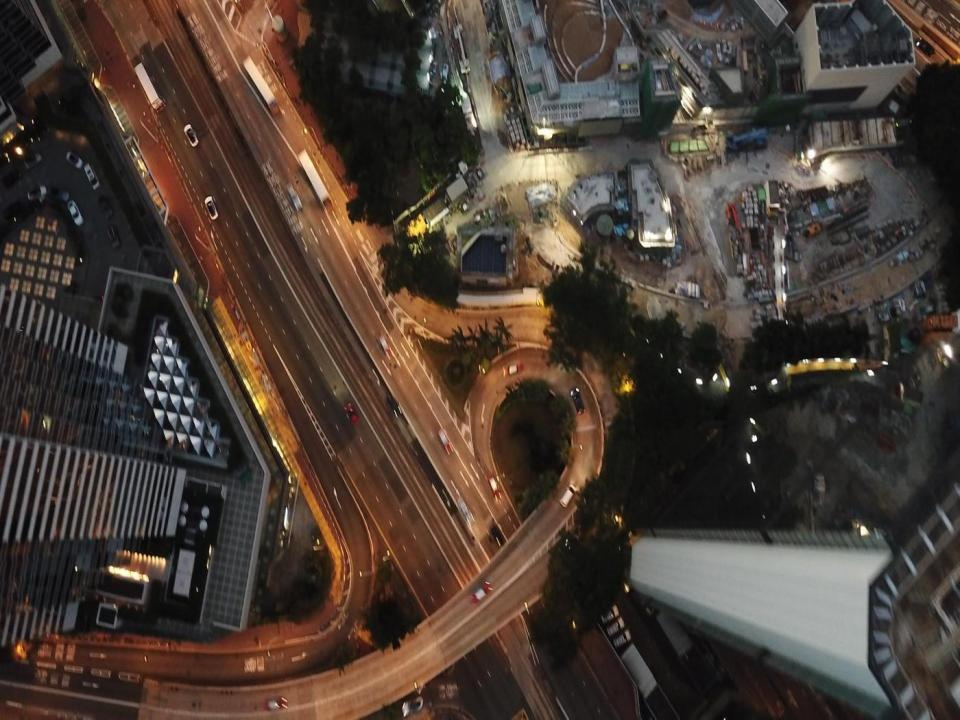bus: (297, 149, 334, 214), (243, 56, 280, 115), (134, 62, 166, 113)
car: (457, 496, 475, 526), (470, 582, 492, 606), (437, 428, 454, 456), (376, 331, 393, 358), (286, 183, 302, 211), (486, 474, 502, 501), (571, 388, 586, 416), (68, 200, 84, 224), (99, 195, 114, 219), (344, 403, 360, 425), (107, 226, 121, 250), (183, 124, 198, 146), (3, 169, 22, 186), (204, 196, 218, 219), (264, 697, 287, 711), (65, 152, 83, 168), (50, 187, 68, 201), (25, 153, 41, 168), (28, 186, 46, 199), (503, 364, 521, 376)
van: (84, 164, 100, 189), (560, 483, 576, 507)
